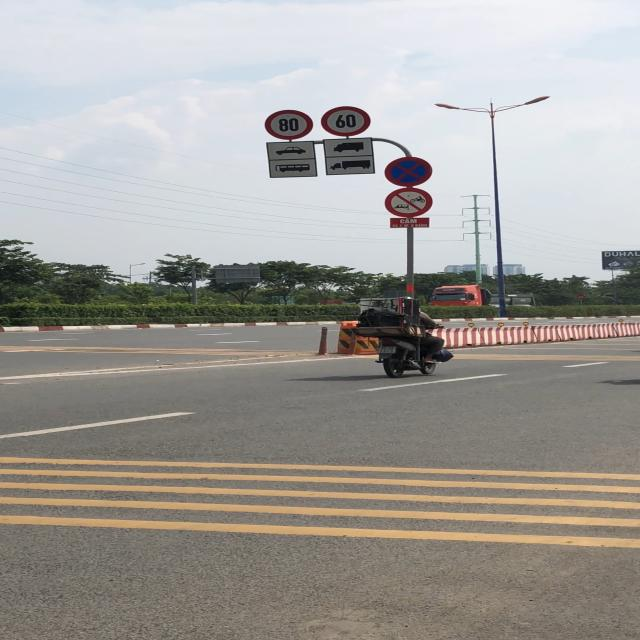Bien bao cam dung xe va do xe: (382, 157, 437, 186)
Bien bao toc do toi da cho phep: (319, 104, 372, 137), (261, 108, 313, 141)
